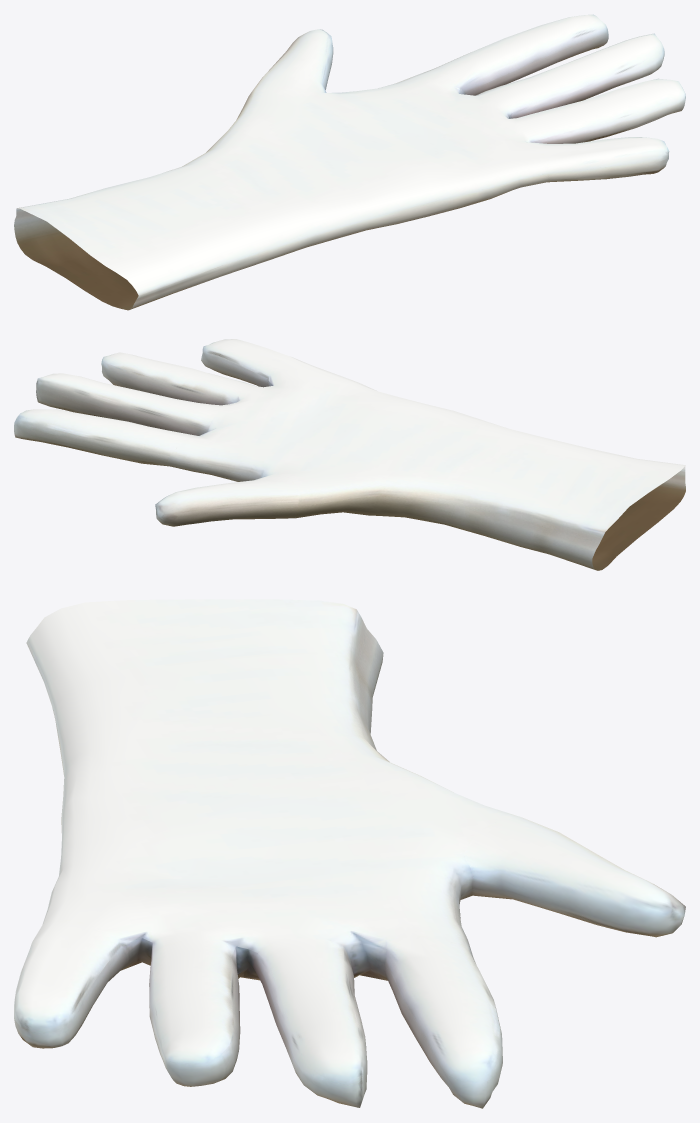
File: normalgloves.glb
3 renders of one model, top to bottom at view 1: azimuth 30°, elevation 25°; view 2: azimuth 150°, elevation 25°; view 3: azimuth 270°, elevation 25°, orthographic. The views are drawn at different scales.
Visible parts, largest first — view 1: normal_gloves; view 2: normal_gloves; view 3: normal_gloves.
Boxes of the visible parts, x1=… form: normal_gloves: x1=14, y1=14, x2=685, y2=310; normal_gloves: x1=14, y1=339, x2=685, y2=570; normal_gloves: x1=14, y1=599, x2=685, y2=1108.
Size of the model in its own units: 0.121 by 0.012 by 0.0703.
1 material, 1 textured.
